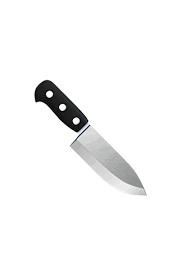Knife: (34, 79, 146, 195)
